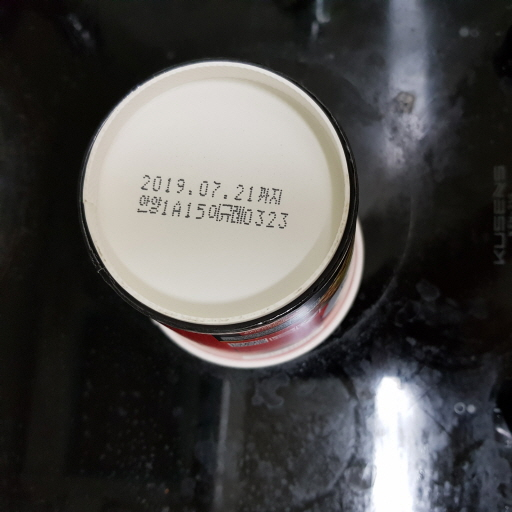Paper_1: (78, 57, 365, 371)
